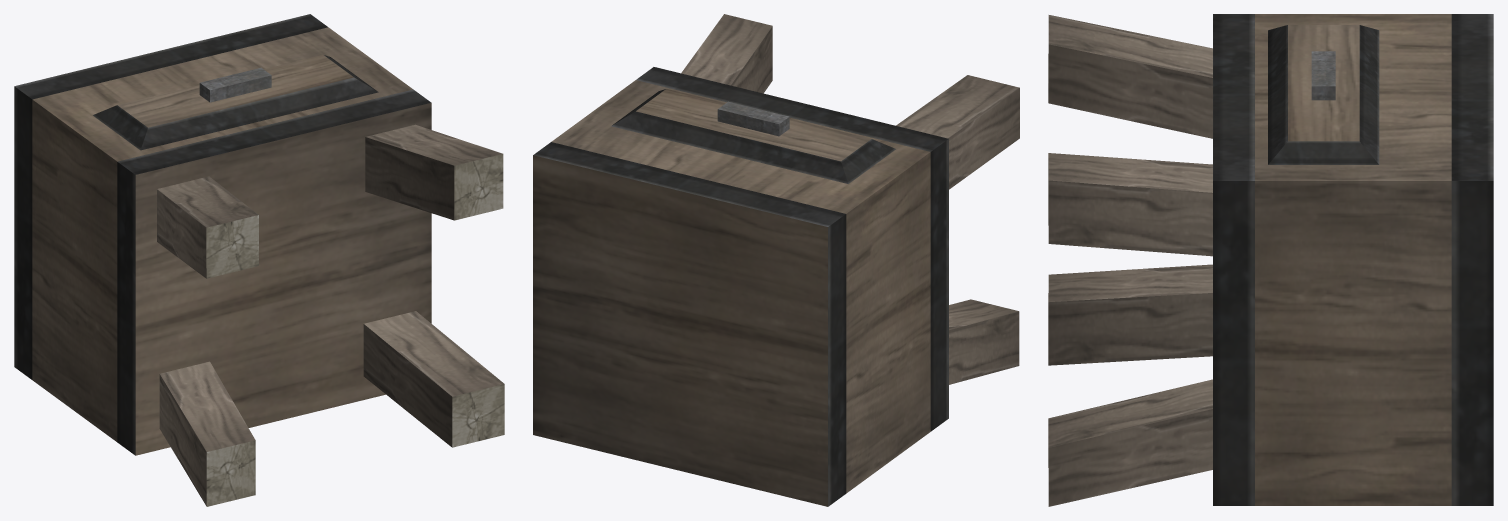
The model's file is Nightstand_A.fbx.
The picture shows the model from 3 angles, left to right: view 1: azimuth 30°, elevation 25°; view 2: azimuth 150°, elevation 25°; view 3: azimuth 270°, elevation 25°; orthographic projection. The views are drawn at different scales.
Parts seen in each view (by area): view 1: Nightstand_A; view 2: Nightstand_A; view 3: Nightstand_A.
Boxes of the visible parts, x1,y1,x2,y2 form: Nightstand_A: (14,14,504,506); Nightstand_A: (533,14,1019,506); Nightstand_A: (1048,14,1493,506).
Bounding box in the file's own units: 0.9932 × 0.9728 × 1.11.
